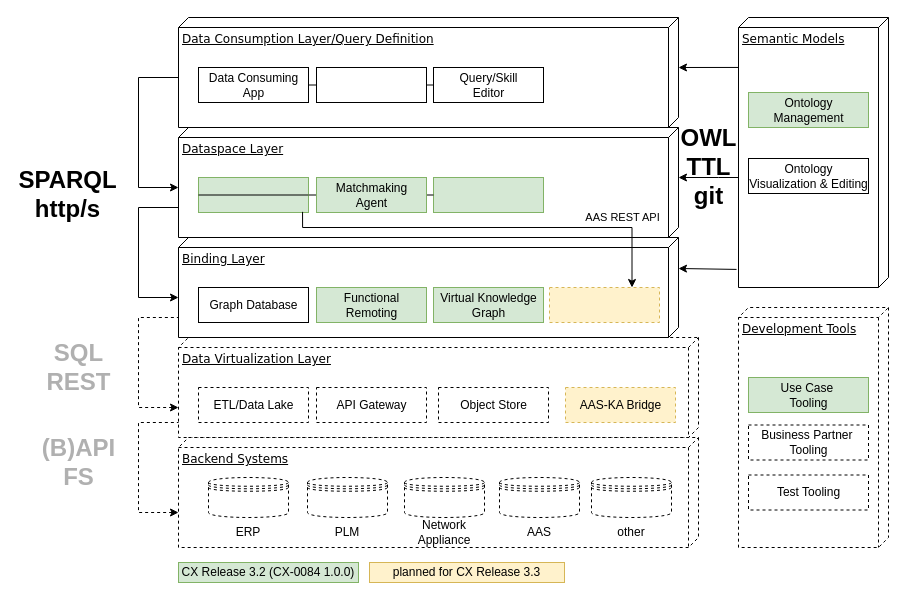
Some shapes in this 906 by 600 pixel diagram are drawn without their labels. Each missing label, with the centre of its shape:
"EDC* Control Plane Data Plane(s)" belongs at point 253,194.
"Federated Catalogue" belongs at point 488,194.
"KA-AAS Bridge" belongs at point 604,304.
"Skill Framework" belongs at point 371,84.
